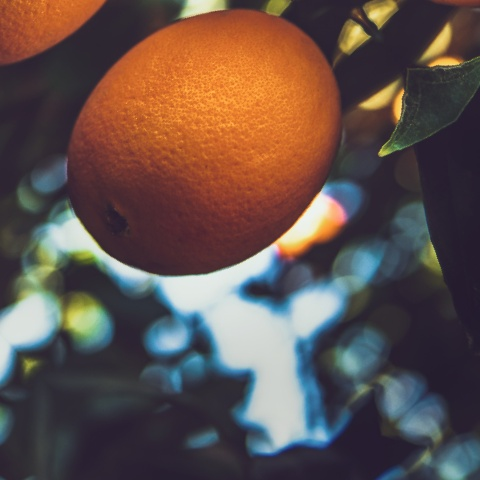orange: (0, 0, 433, 375)
